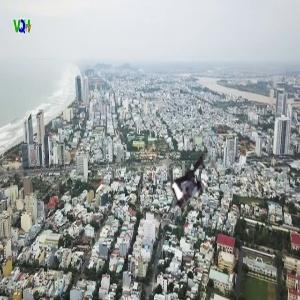drone: (163, 153, 224, 214)
